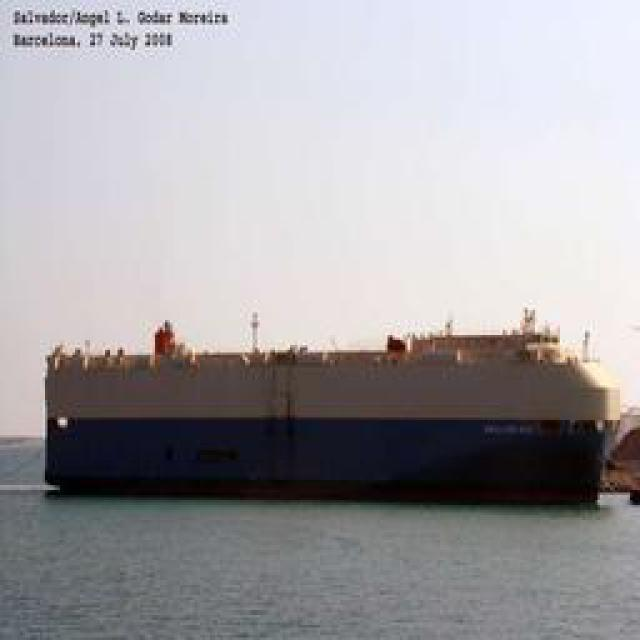Ship: (6, 316, 619, 504)
